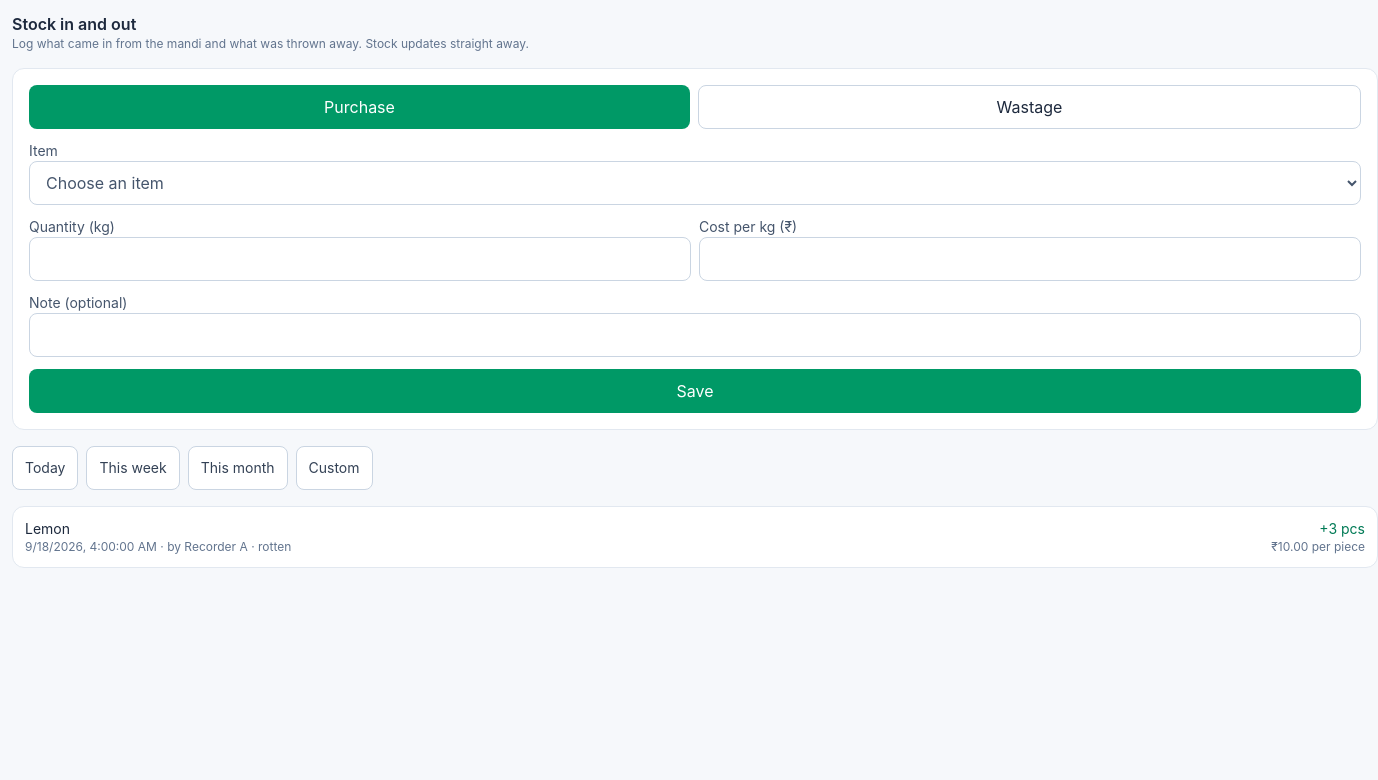
Test: the stock screen › explains an over-stock wastage and shows the current stock in the item's unit
Expected: the list item with test id "stock-row-m1" is shown, [12,506,1377,568]
Click the radio button with test id "stock-kind-wastage" at (1030, 107), box [698,85,1361,129]
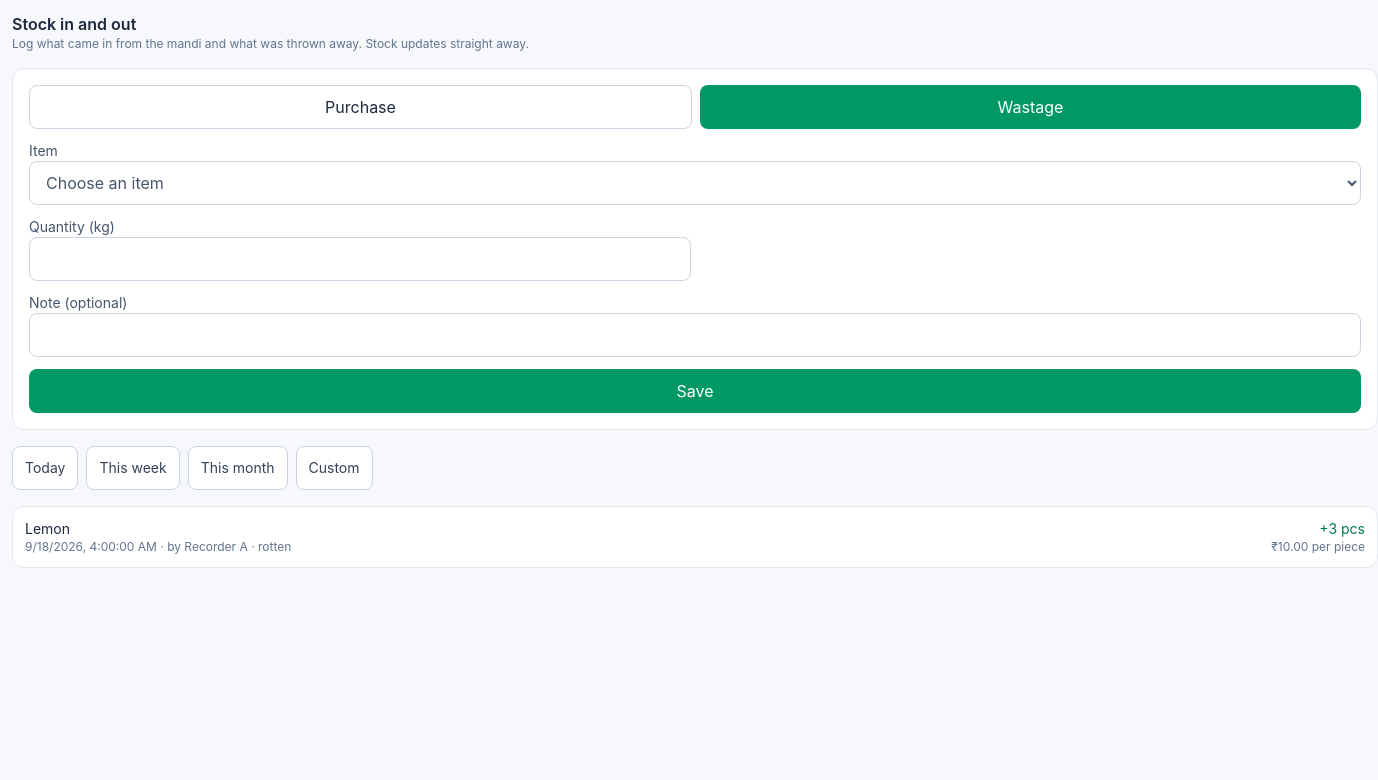
Select "Lemon (7 pcs)" in the dropdown with test id "stock-item" at (695, 183), box [29,161,1361,205]
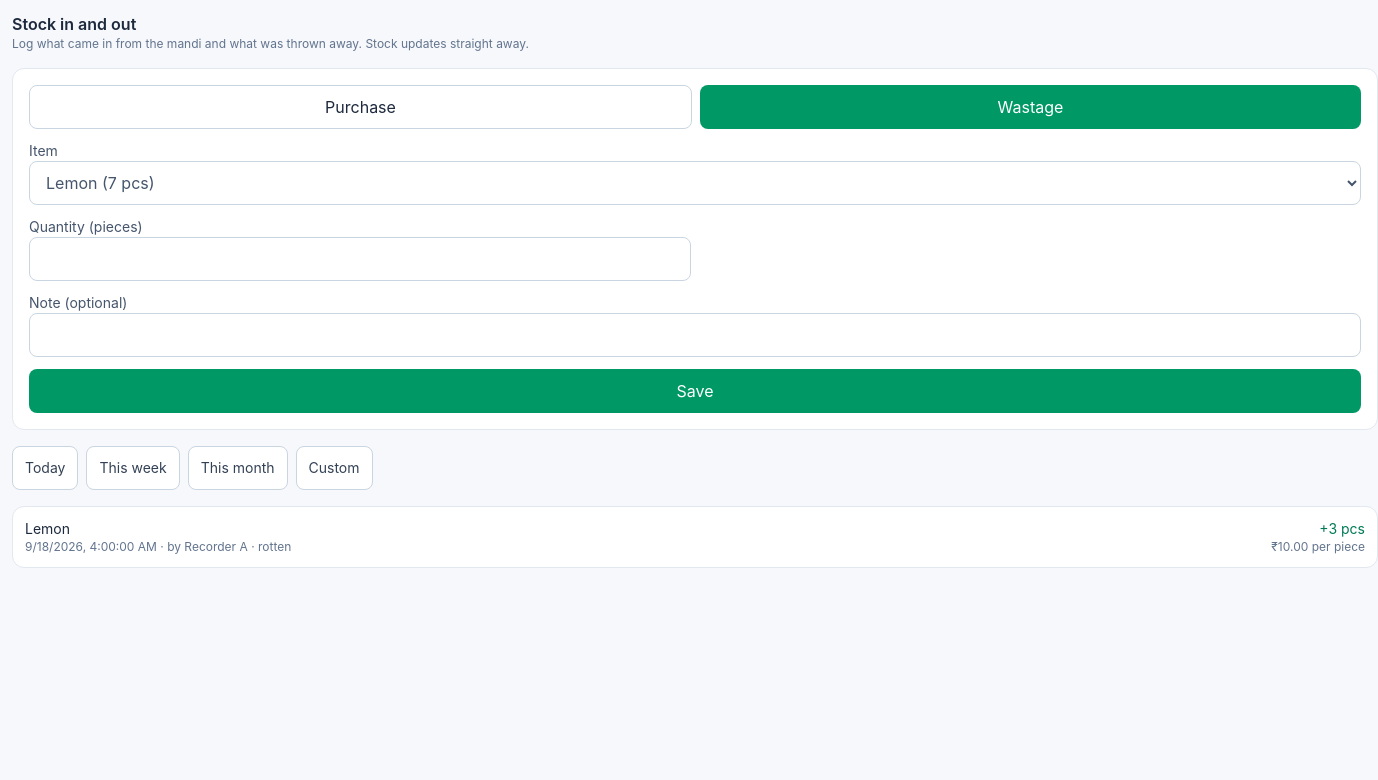
Type "50" into the field with test id "stock-kg" at (360, 259), box [29,237,691,281]
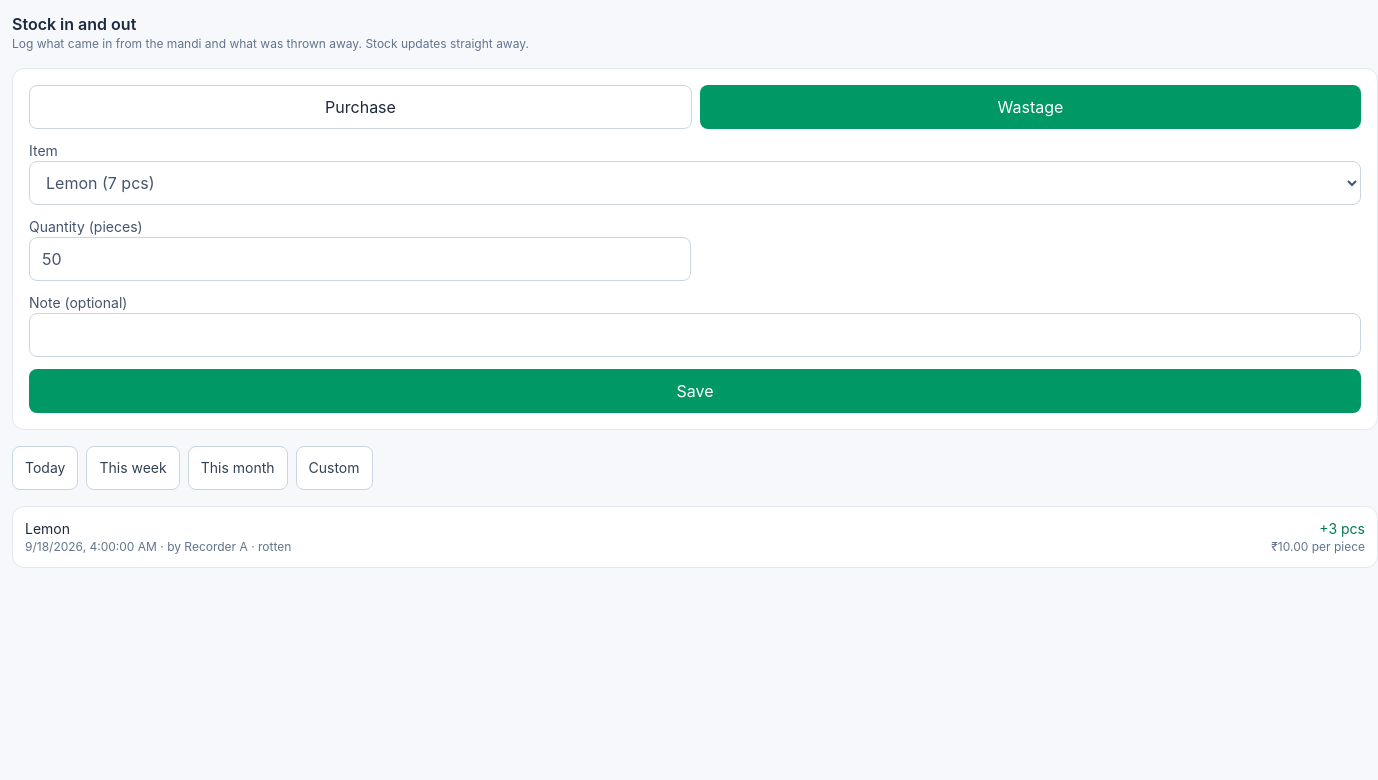
Click the button with test id "stock-submit" at (695, 391), box [29,369,1361,413]
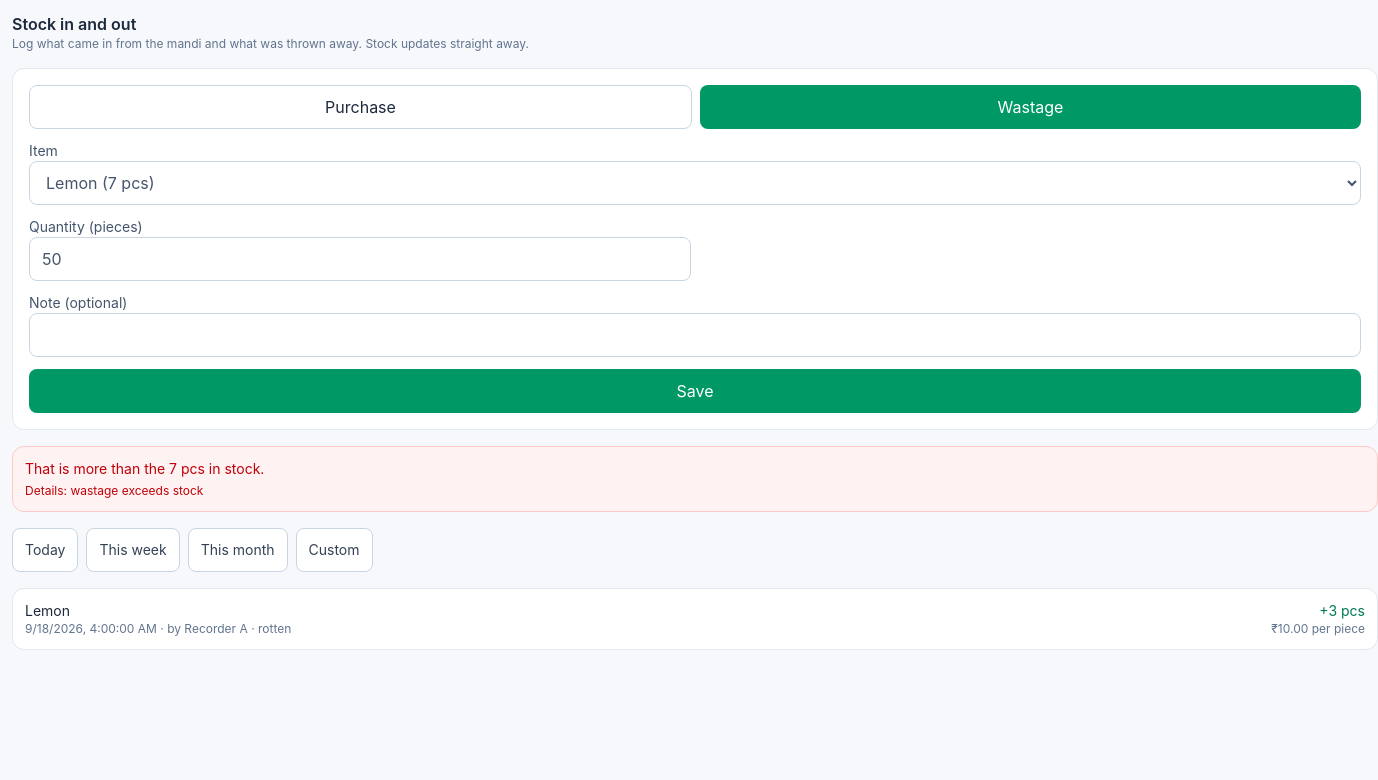
Expected: the element with test id "stock-problem" shows "7 pcs", [25,460,264,477]
